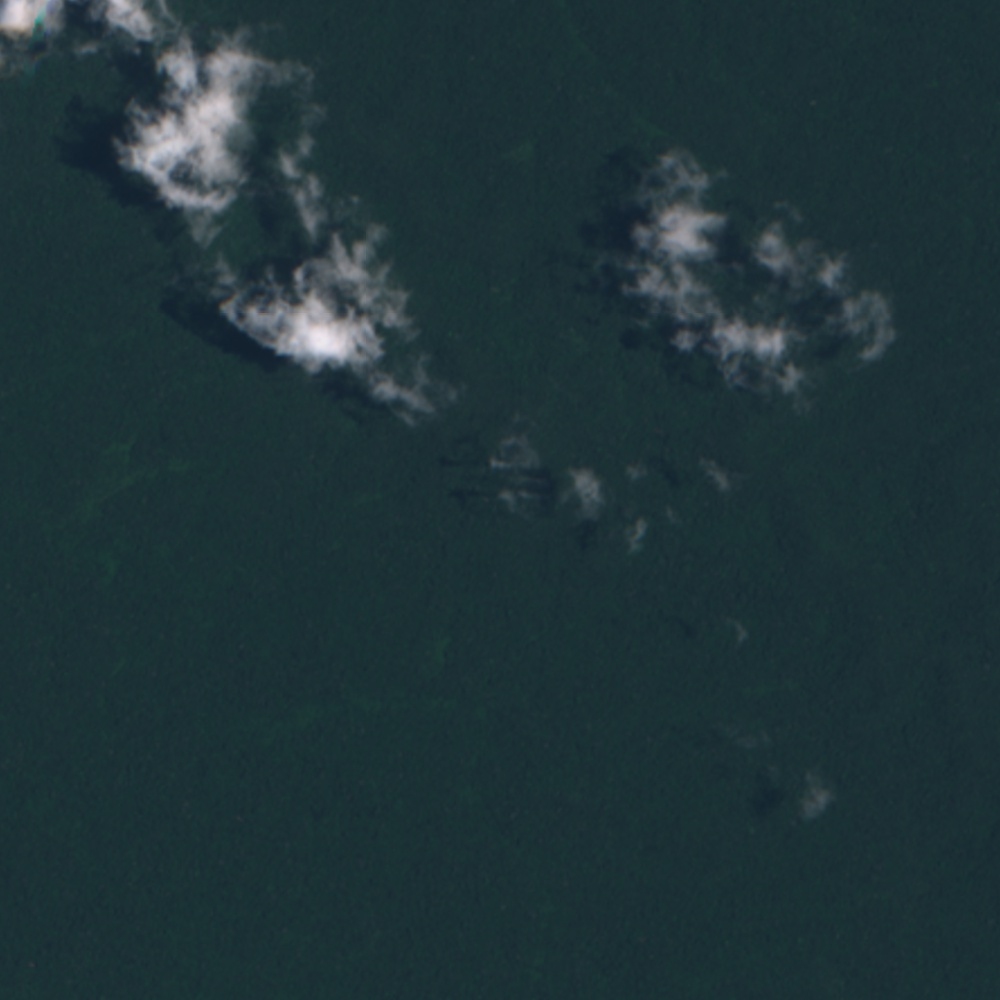illegal: (909, 660, 954, 733)
